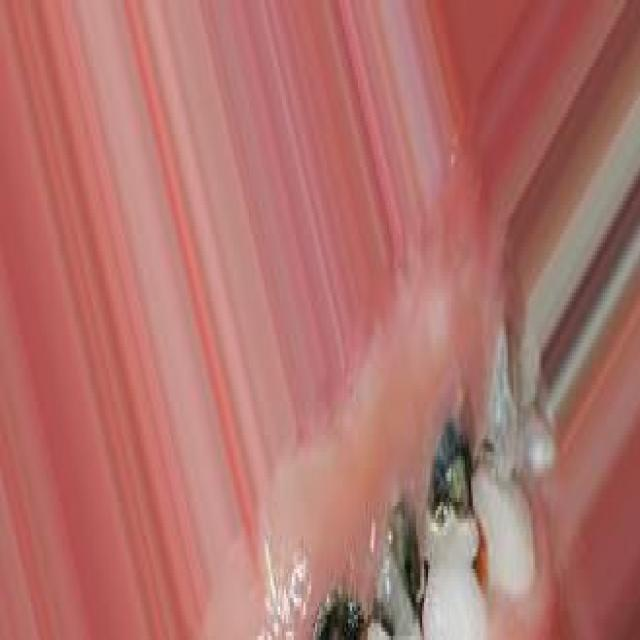caries: (425, 417, 482, 563), (372, 499, 426, 637), (309, 569, 372, 640), (492, 308, 527, 417), (464, 517, 492, 604)
